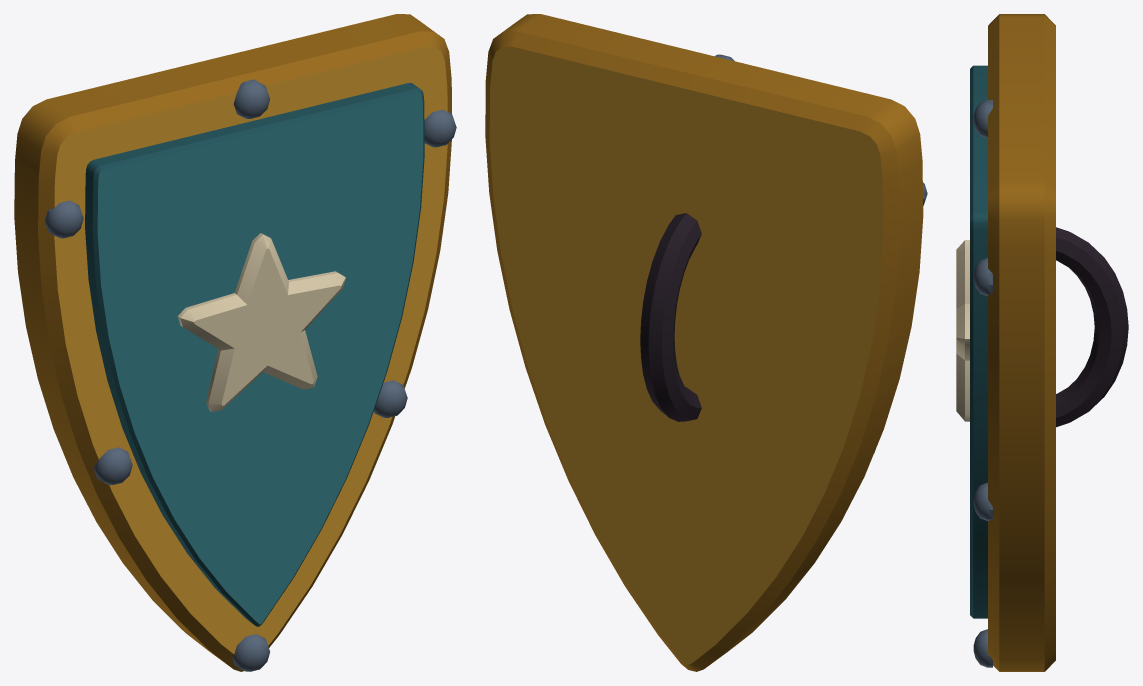
The model's file is HeaterShield_13.glb.
3 renders of one model, left to right at view 1: azimuth 30°, elevation 25°; view 2: azimuth 150°, elevation 25°; view 3: azimuth 270°, elevation 25°, orthographic. The views are drawn at different scales.
Parts seen in each view (by area): view 1: HeaterShield_13; view 2: HeaterShield_13; view 3: HeaterShield_13.
Boxes of the visible parts, box(x1,y1,x2,y2) form: HeaterShield_13: box(14, 14, 456, 671); HeaterShield_13: box(485, 14, 927, 671); HeaterShield_13: box(956, 14, 1128, 671).
Bounding box in the file's own units: 2.02 × 2.78 × 0.76.
